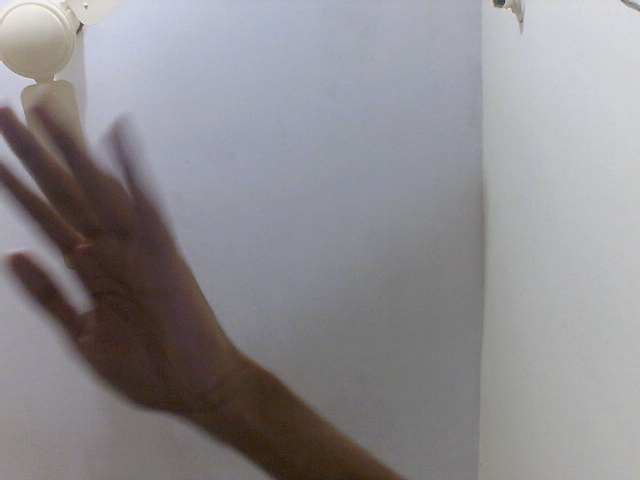hand: (1, 104, 227, 444)
